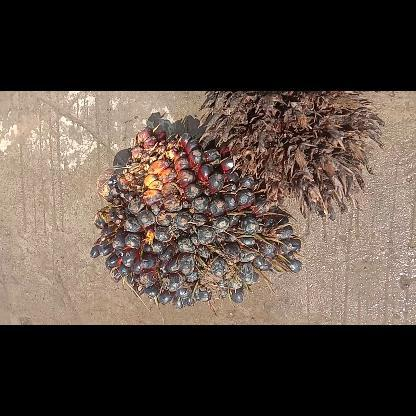Janjang kosong: (198, 90, 384, 222)
TBS mentah: (91, 122, 309, 320)
